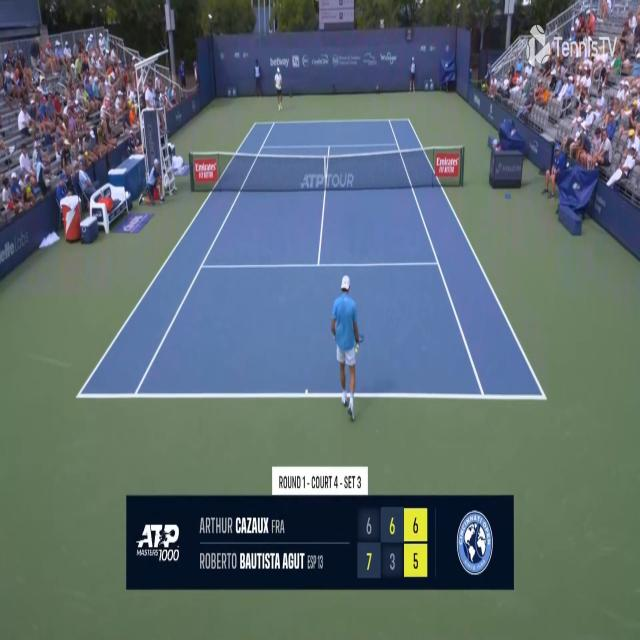tennis-player: (329, 272, 362, 422), (274, 65, 284, 112)
